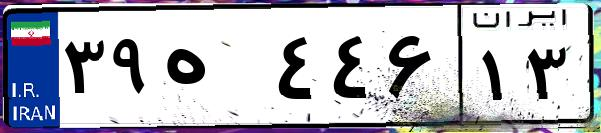1: (475, 38, 525, 113)
3: (57, 26, 110, 100), (525, 38, 570, 115)
4: (270, 28, 330, 110), (330, 28, 385, 110)
6: (385, 28, 445, 110)
9: (110, 28, 158, 98)
ه: (158, 20, 270, 120)
